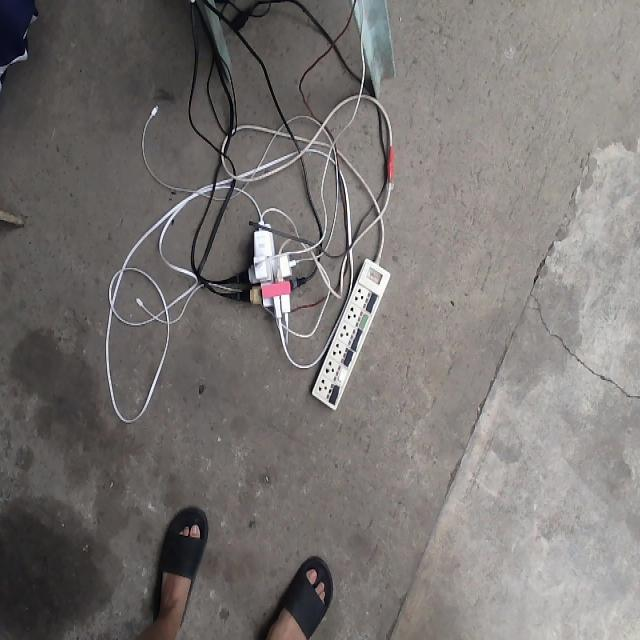-: (231, 208, 310, 336)
